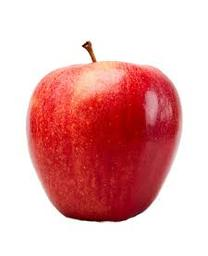apple: (24, 38, 182, 221)
